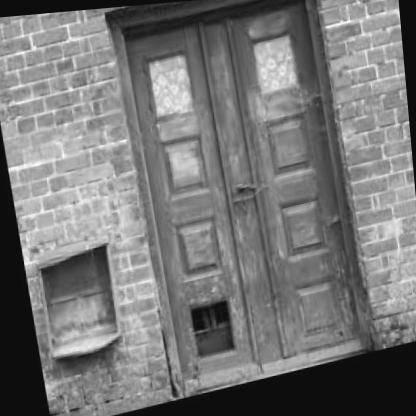door: (106, 0, 385, 392)
